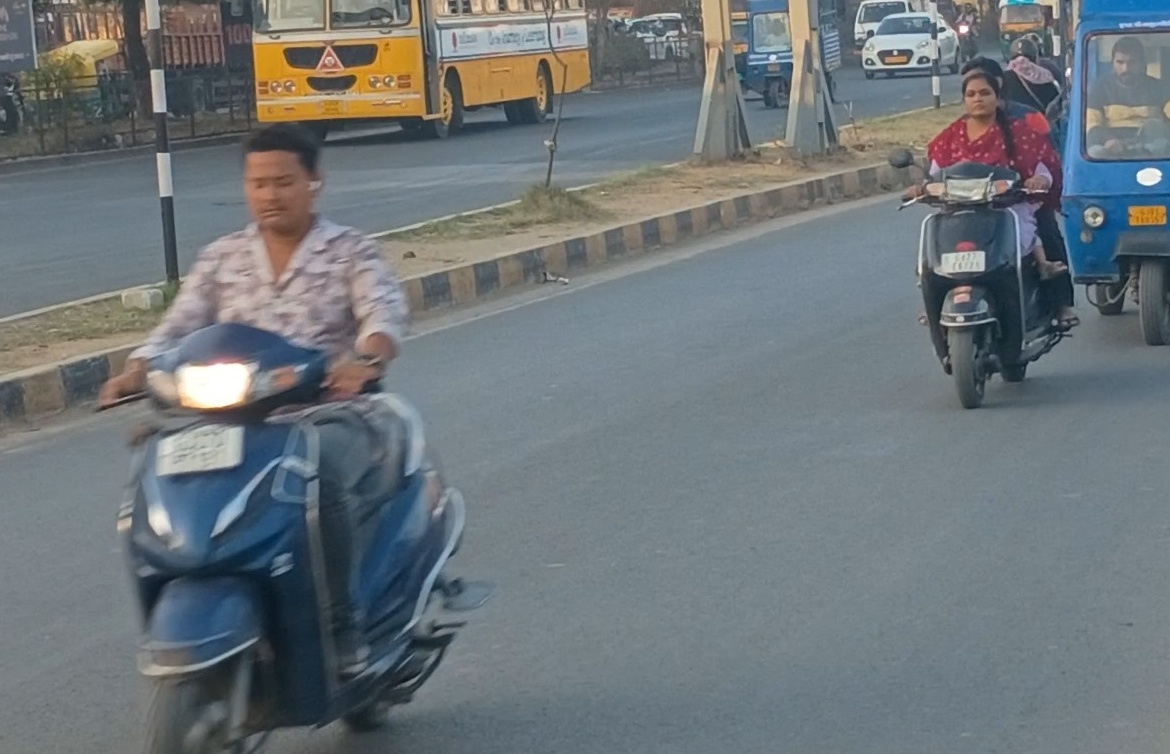BikeWithRider: (80, 116, 501, 753), (879, 50, 1091, 416)
NoHelmet: (226, 119, 338, 240), (950, 55, 1011, 125)
